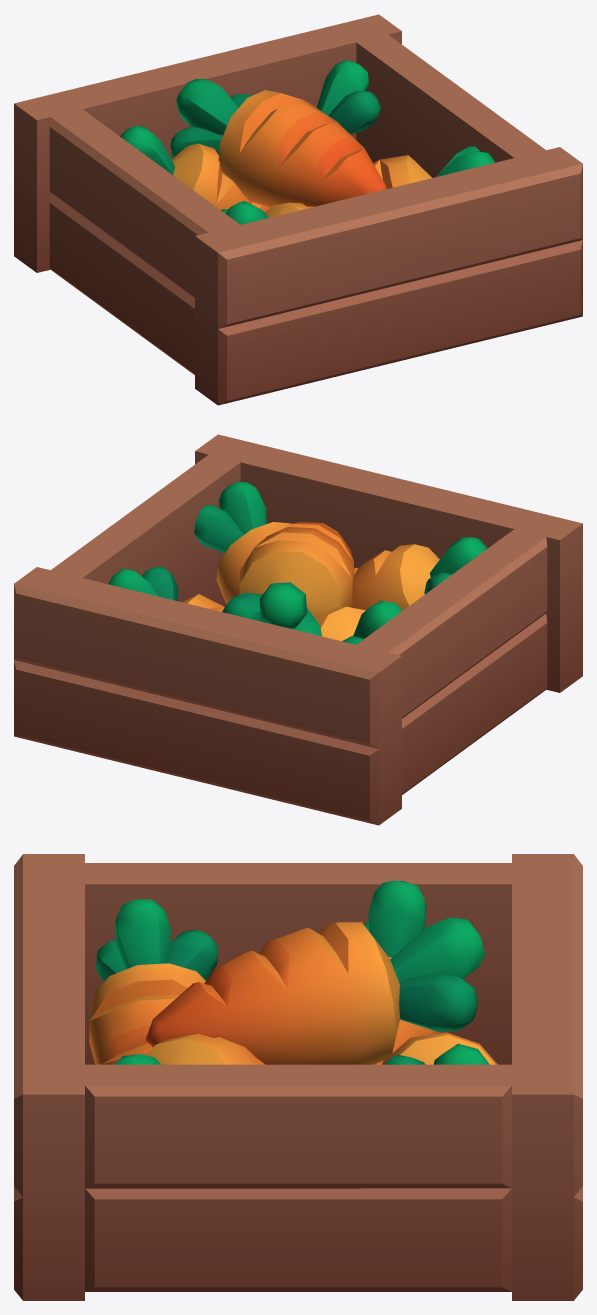
The model's file is crate_carrots.glb.
The picture shows the model from 3 angles, top to bottom: view 1: azimuth 30°, elevation 25°; view 2: azimuth 150°, elevation 25°; view 3: azimuth 270°, elevation 25°; orthographic projection. The views are drawn at different scales.
Visible parts, largest first — view 1: crate_carrots; view 2: crate_carrots; view 3: crate_carrots.
Boxes of the visible parts, x1,y1,x2,y2 form: crate_carrots: [14, 14, 582, 405]; crate_carrots: [14, 434, 582, 825]; crate_carrots: [14, 854, 582, 1300].
Bounding box in the file's own units: 2 × 0.9432 × 2.
Materials: 1 (1 with a texture image).
